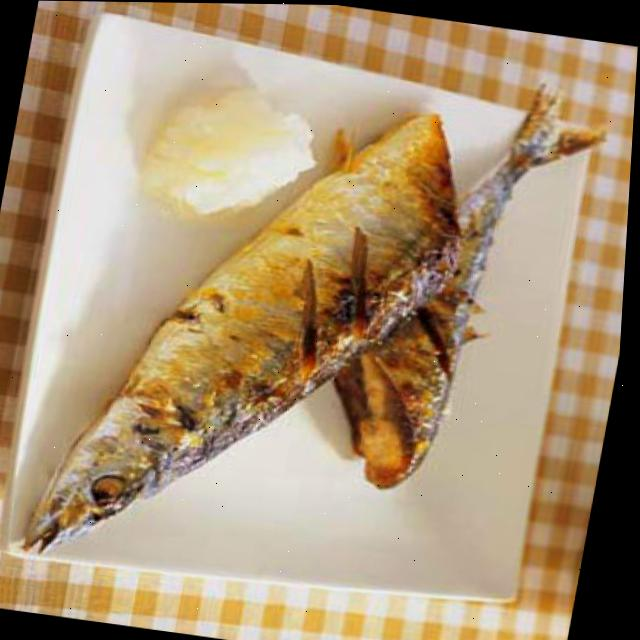熟制海鲜: (21, 55, 565, 640)
